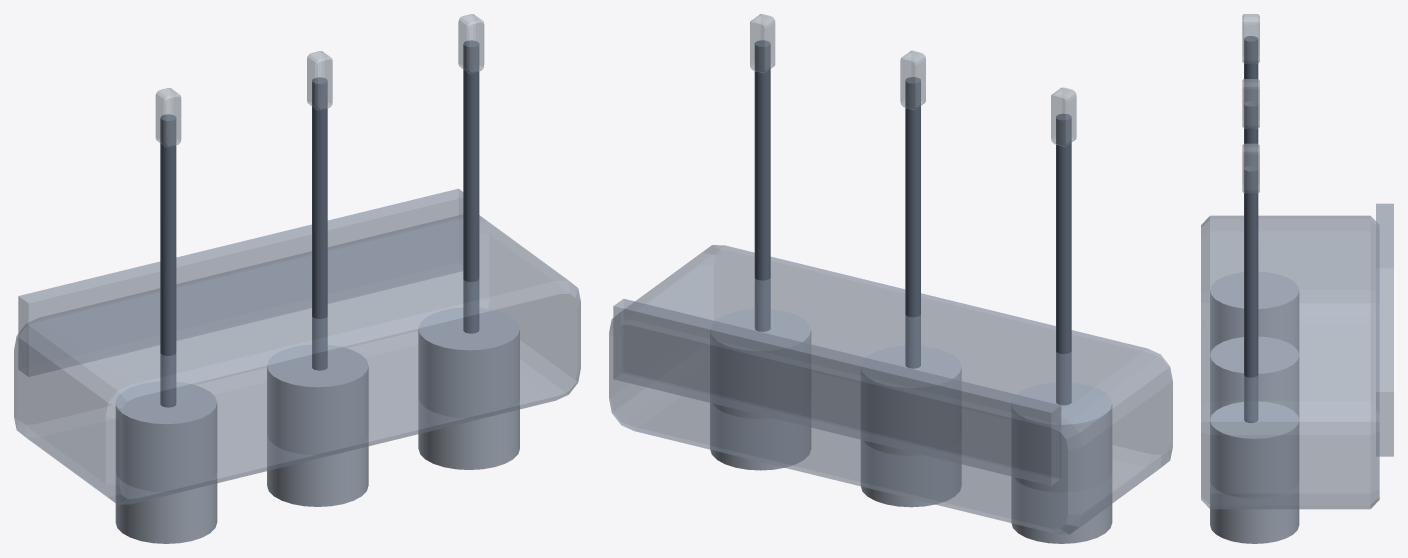
File: toothbrush-holder-lite.glb
3 renders of one model, left to right at view 1: azimuth 30°, elevation 25°; view 2: azimuth 150°, elevation 25°; view 3: azimuth 270°, elevation 25°, orthographic. The views are drawn at different scales.
Visible parts, largest first — view 1: body, soft, dark, light; view 2: body, soft, dark, light; view 3: body, soft, dark, light.
Part boxes in pixels (x1=…): body: x1=14, y1=188, x2=580, y2=504; soft: x1=115, y1=307, x2=519, y2=543; dark: x1=160, y1=40, x2=479, y2=407; light: x1=155, y1=14, x2=484, y2=147; body: x1=609, y1=245, x2=1172, y2=534; soft: x1=710, y1=309, x2=1112, y2=543; dark: x1=754, y1=40, x2=1071, y2=405; light: x1=750, y1=14, x2=1076, y2=146; body: x1=1201, y1=203, x2=1393, y2=509; soft: x1=1210, y1=271, x2=1299, y2=543; dark: x1=1244, y1=36, x2=1258, y2=422; light: x1=1242, y1=14, x2=1259, y2=193.
Bounding box in the file's own units: 0.27 × 0.2345 × 0.108.
